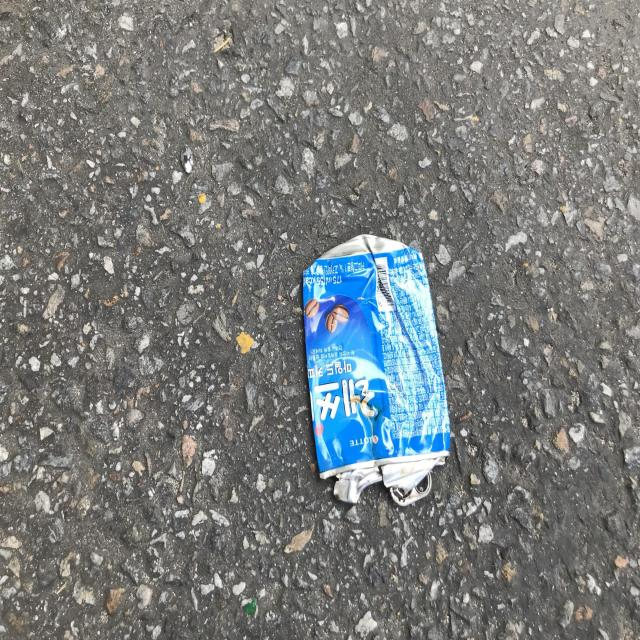can: (303, 235, 451, 506)
